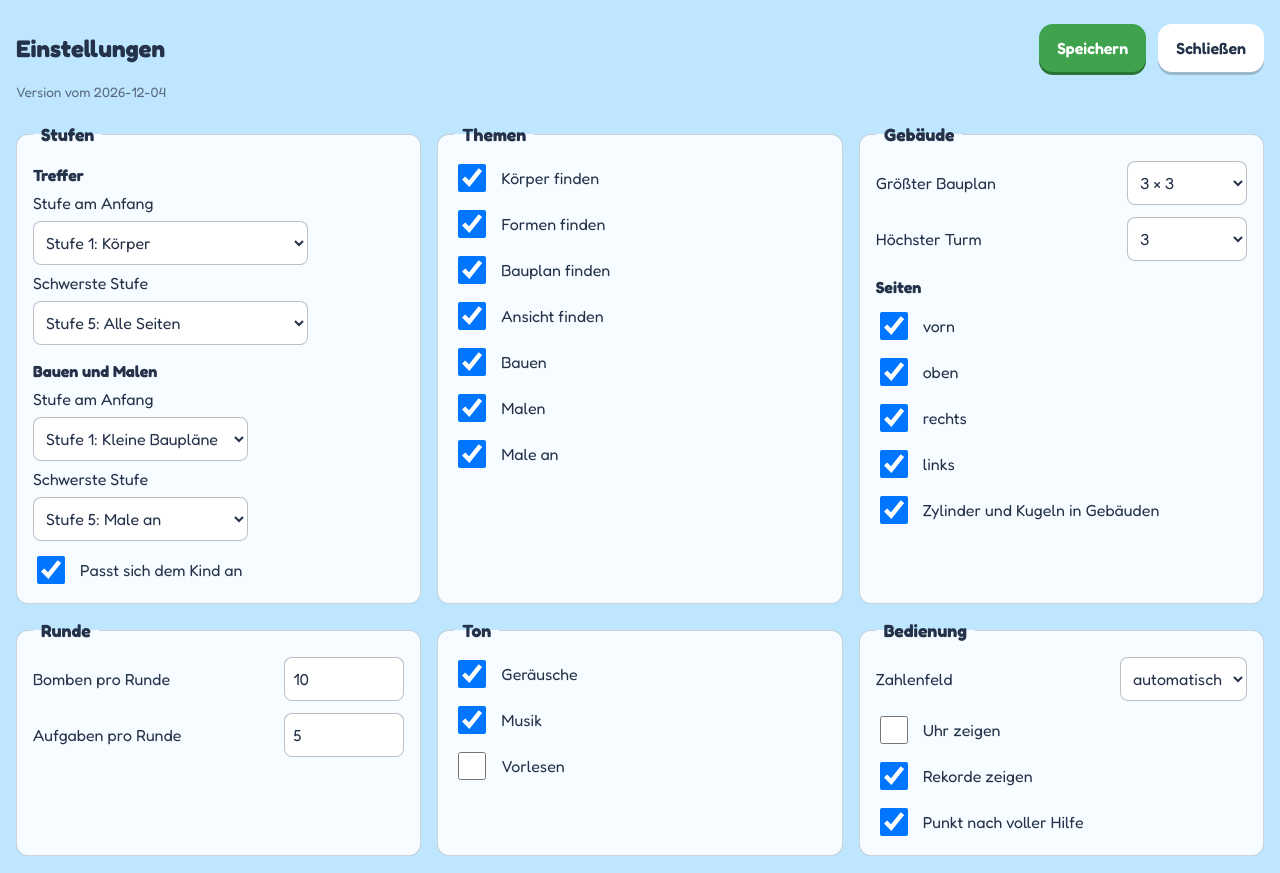
Test: SettingsPage (T060, FR-051) › refuses all sides off
Click the checkbox labelled "vorn" at (894, 326), box [880,312,908,340]
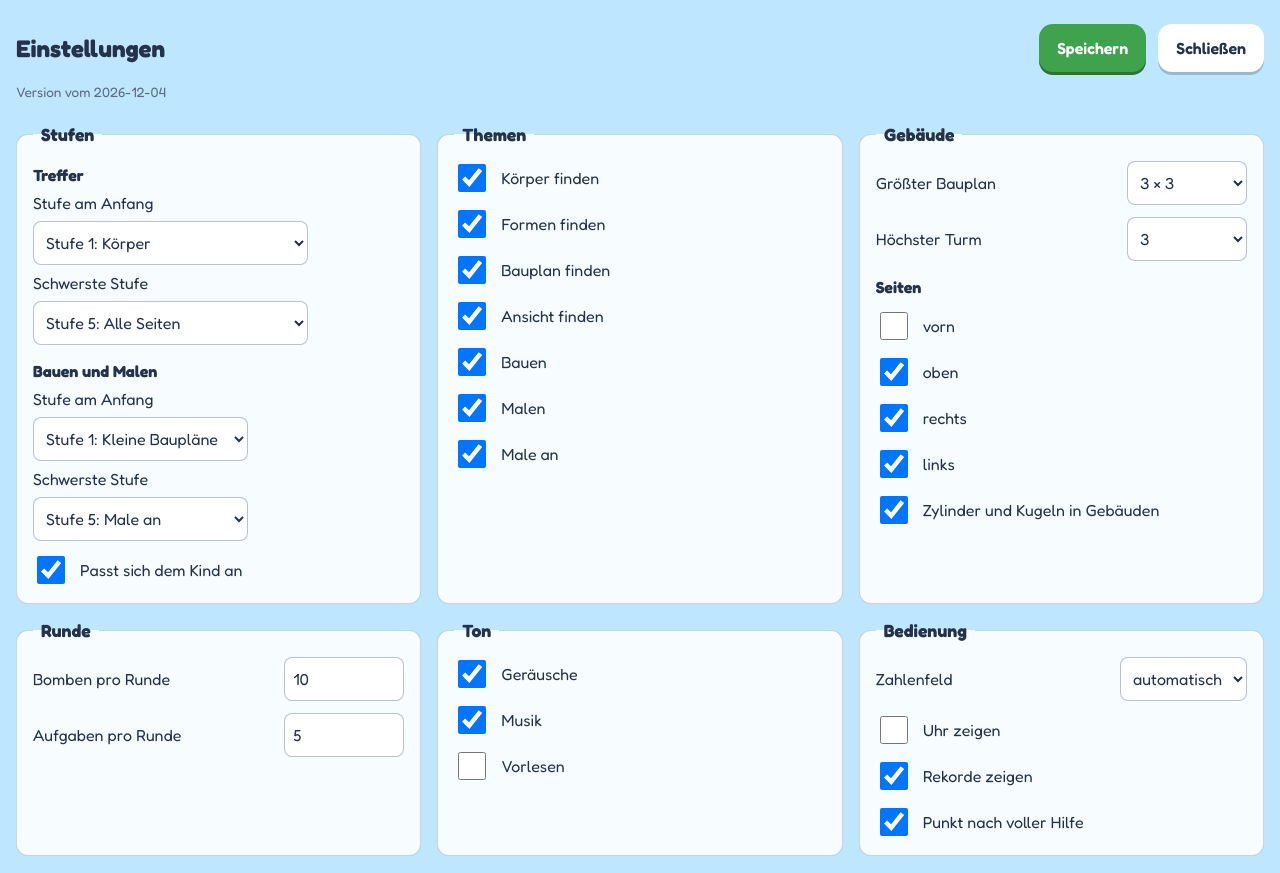
Click the checkbox labelled "oben" at (894, 372), box [880,358,908,386]
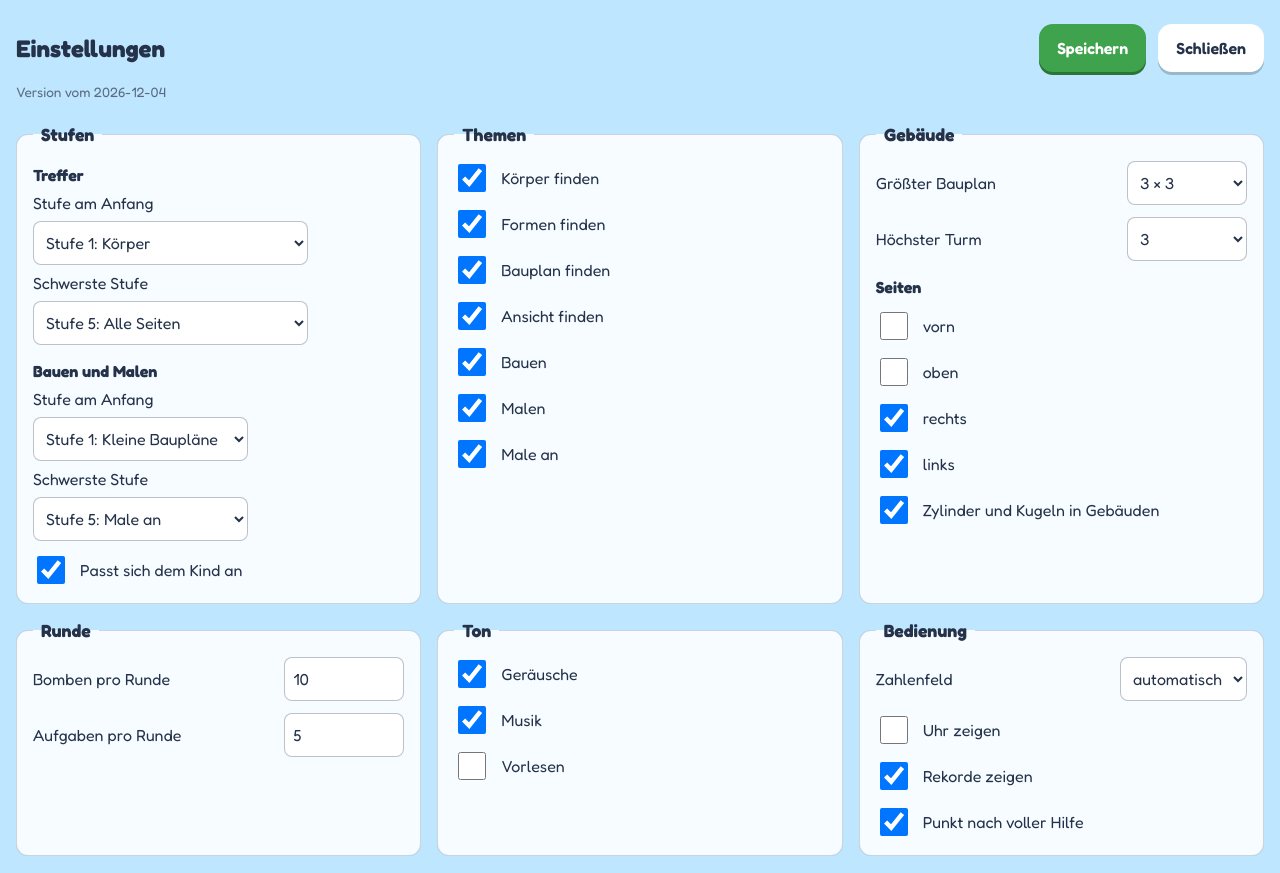
Click the checkbox labelled "rechts" at (894, 418), box [880,404,908,432]
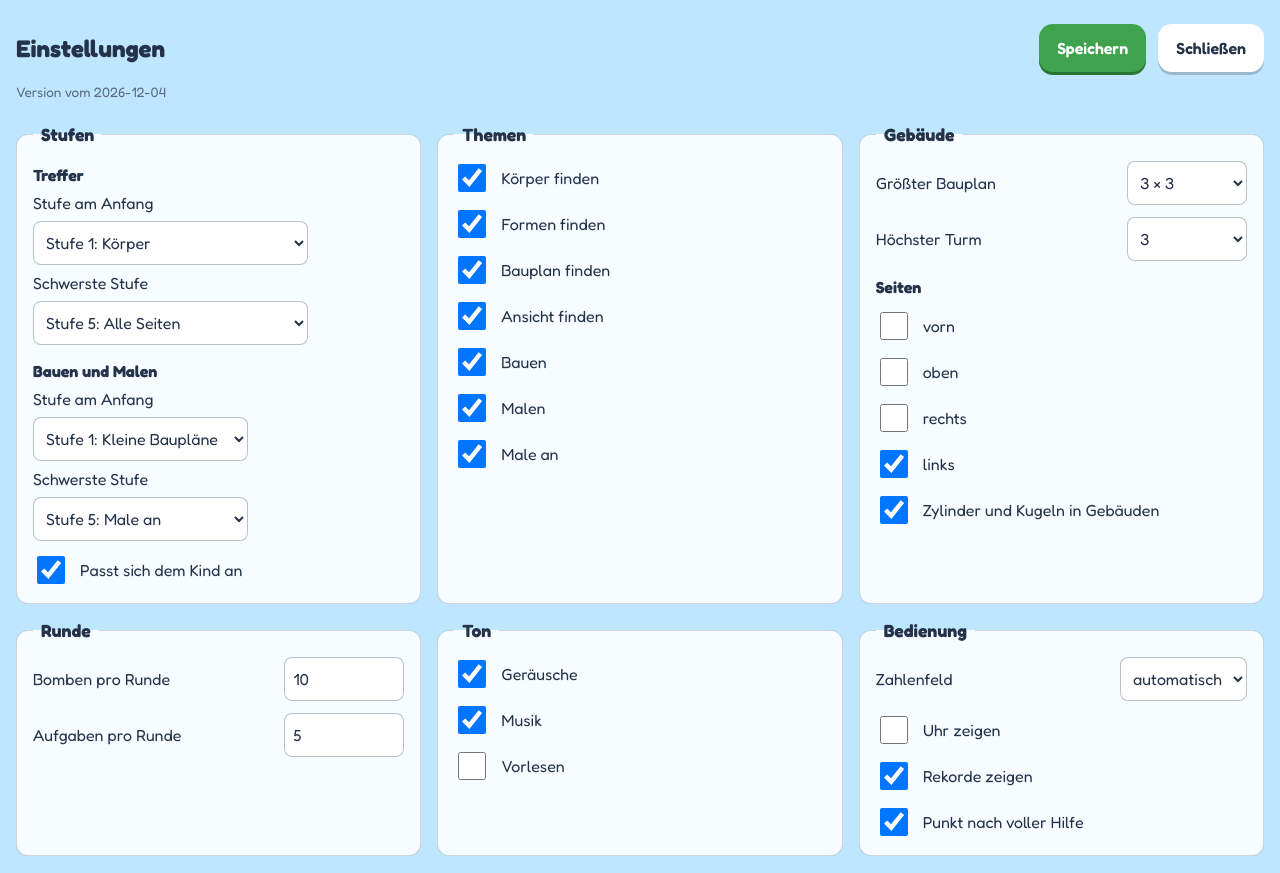
Click the checkbox labelled "links" at (894, 464), box [880,450,908,478]
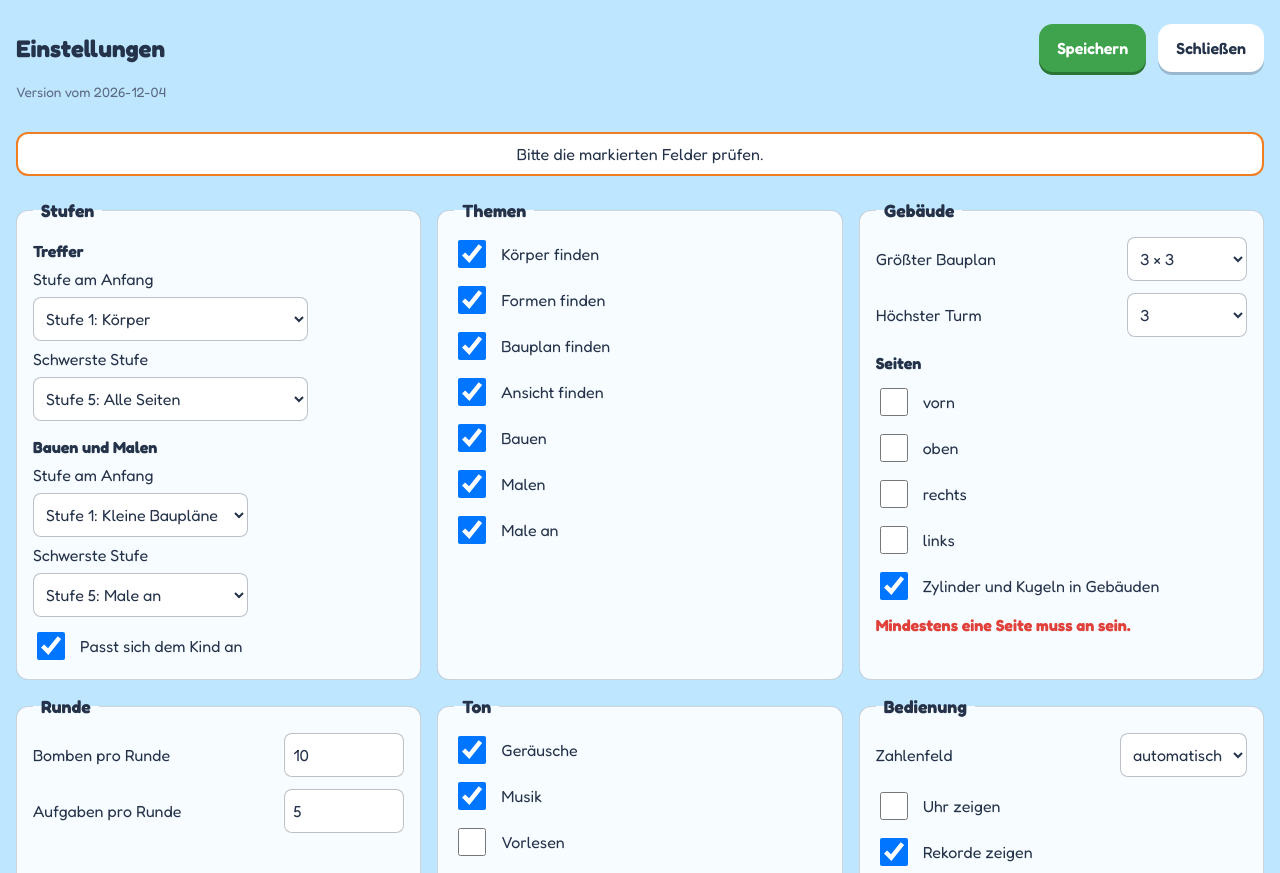
Expected: the button "Speichern" is disabled, [1039,24,1146,72]
Result: the list item "Mindestens eine Seite muss an sein." is shown at [876,615,1130,635]
